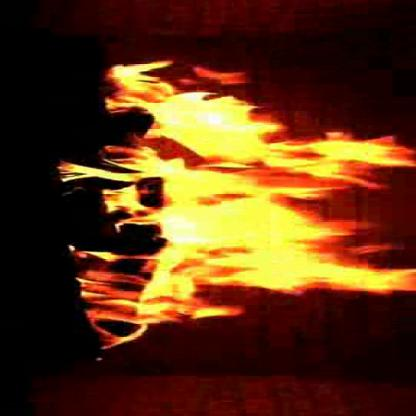Fire: (162, 96, 410, 298)
